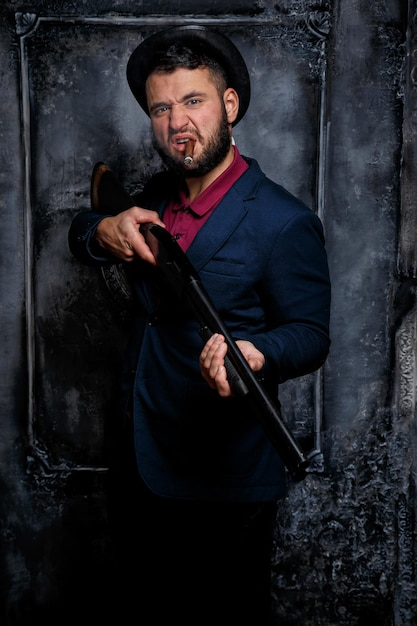cigarette: (183, 140, 196, 165)
gun: (91, 157, 309, 470)
